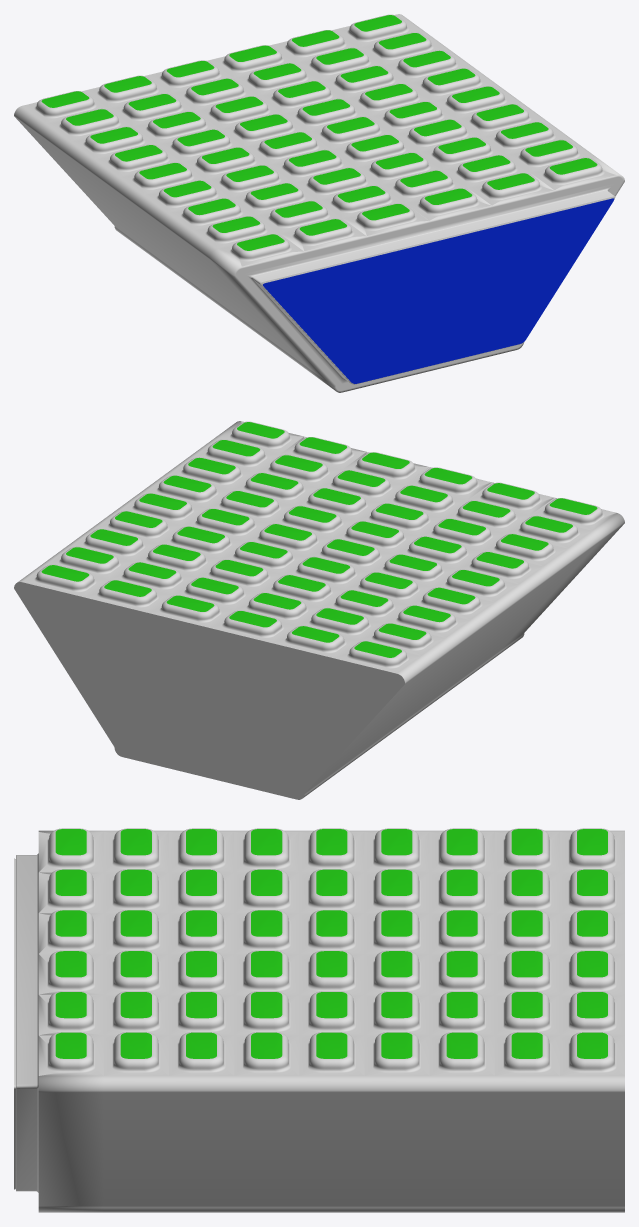
Rendered from SpaceStation_Export_1.fbx.
3 views of the same model, one above another, from view 1: azimuth 30°, elevation 25°; view 2: azimuth 150°, elevation 25°; view 3: azimuth 270°, elevation 25° (orthographic). The views are drawn at different scales.
Visible parts, largest first — view 1: Cube; view 2: Cube; view 3: Cube.
Part boxes in pixels (box(x1,y1,x2,y2)): Cube: box(14, 14, 624, 392); Cube: box(14, 421, 624, 799); Cube: box(14, 828, 624, 1212).
Size of the model in its own units: 2435 by 939 by 2469.
